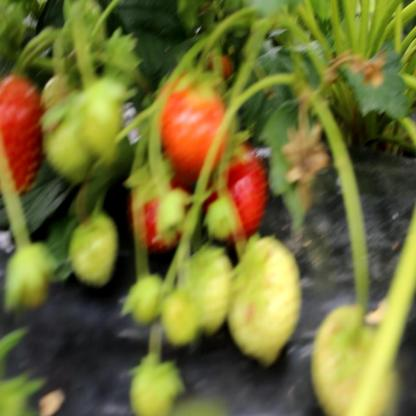ripe: (159, 67, 228, 188), (212, 138, 282, 226), (1, 71, 47, 196)
unripe: (310, 298, 390, 416), (228, 242, 299, 373), (184, 248, 229, 339), (69, 215, 118, 290), (6, 247, 56, 312), (130, 358, 180, 414), (126, 272, 163, 325), (164, 286, 193, 352)
